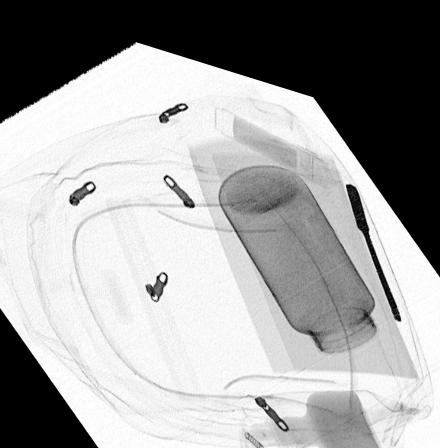Wrench: (343, 159, 403, 298)
